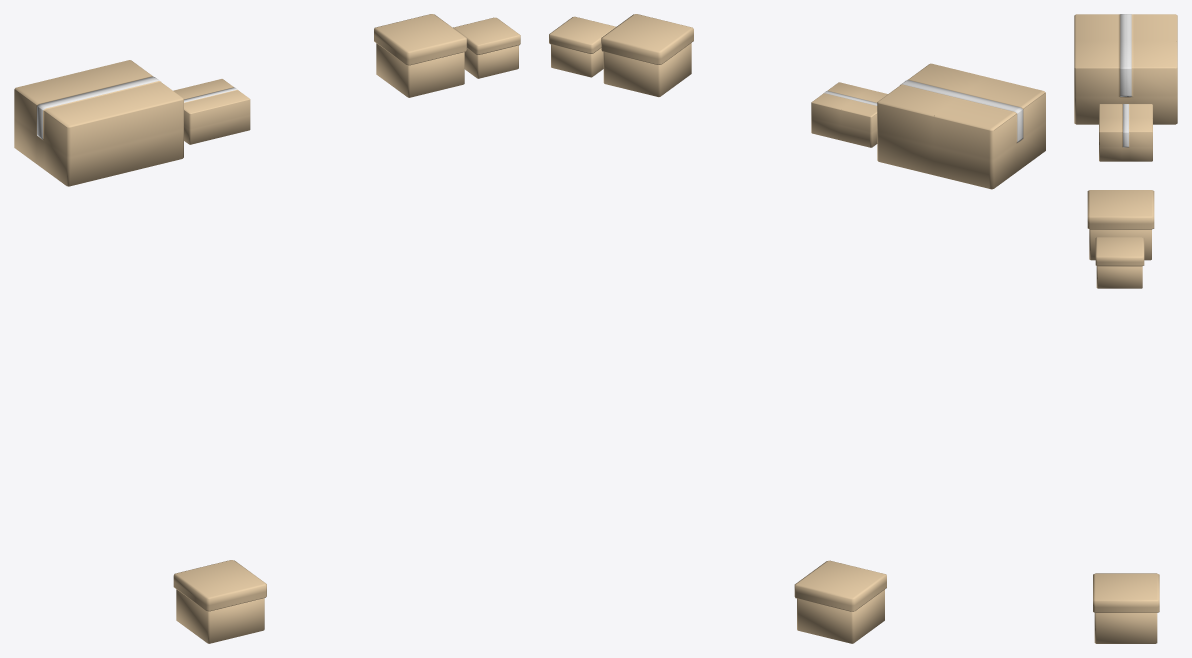
The model's file is Boxes.fbx.
3 views of the same model, side by side, from view 1: azimuth 30°, elevation 25°; view 2: azimuth 150°, elevation 25°; view 3: azimuth 270°, elevation 25° (orthographic). The views are drawn at different scales.
Parts seen in each view (by area): view 1: TapedBox.001, Shoebox.001, Shoebox, TapedBox.002, Shoebox.002; view 2: TapedBox.001, Shoebox, Shoebox.001, TapedBox.002, Shoebox.002; view 3: TapedBox.001, Shoebox.001, Shoebox, TapedBox.002, Shoebox.002.
Boxes of the visible parts, bbox=[...] form: TapedBox.001: bbox=[14, 60, 183, 186]; Shoebox.001: bbox=[173, 560, 266, 643]; Shoebox: bbox=[374, 14, 466, 97]; TapedBox.002: bbox=[173, 79, 250, 144]; Shoebox.002: bbox=[453, 17, 520, 78]; TapedBox.001: bbox=[877, 63, 1045, 189]; Shoebox: bbox=[601, 14, 693, 97]; Shoebox.001: bbox=[794, 560, 886, 643]; TapedBox.002: bbox=[811, 82, 887, 147]; Shoebox.002: bbox=[549, 16, 615, 77]; TapedBox.001: bbox=[1074, 14, 1177, 124]; Shoebox.001: bbox=[1093, 573, 1159, 643]; Shoebox: bbox=[1087, 190, 1154, 260]; TapedBox.002: bbox=[1099, 104, 1152, 161]; Shoebox.002: bbox=[1095, 237, 1144, 288].
Size of the model in its own units: 309 by 357 by 62.4.
